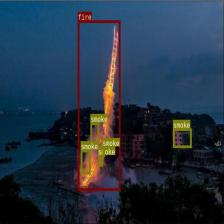fire: (77, 20, 120, 190)
smoke: (172, 128, 192, 147), (80, 149, 90, 173), (90, 122, 99, 148), (98, 155, 103, 166), (102, 146, 104, 156)
